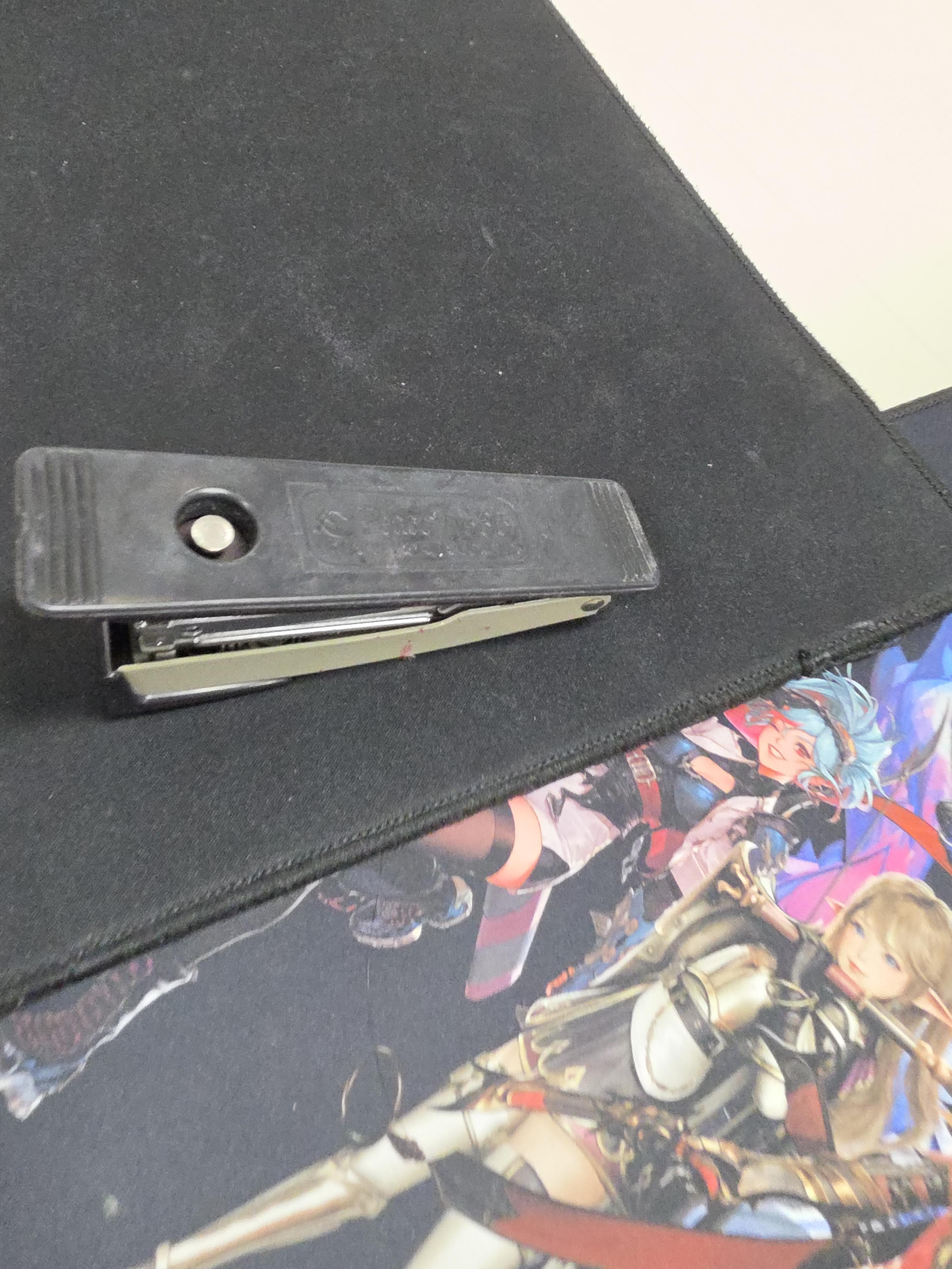stapler: (12, 446, 660, 716)
